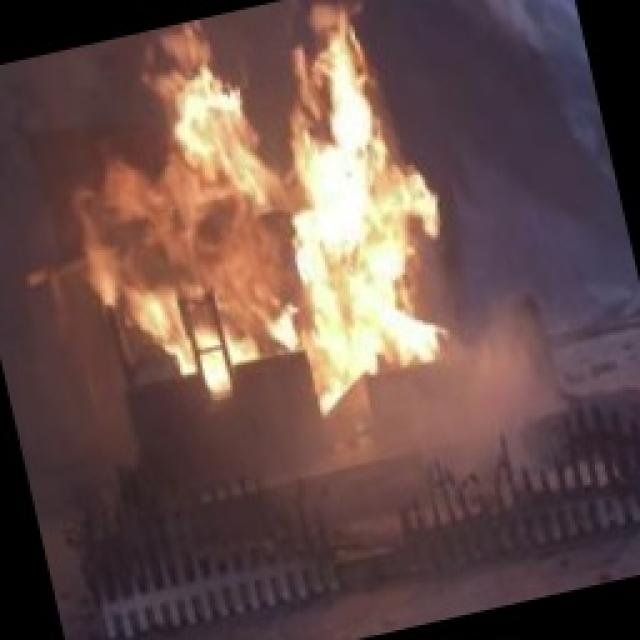fire: (0, 0, 518, 498)
